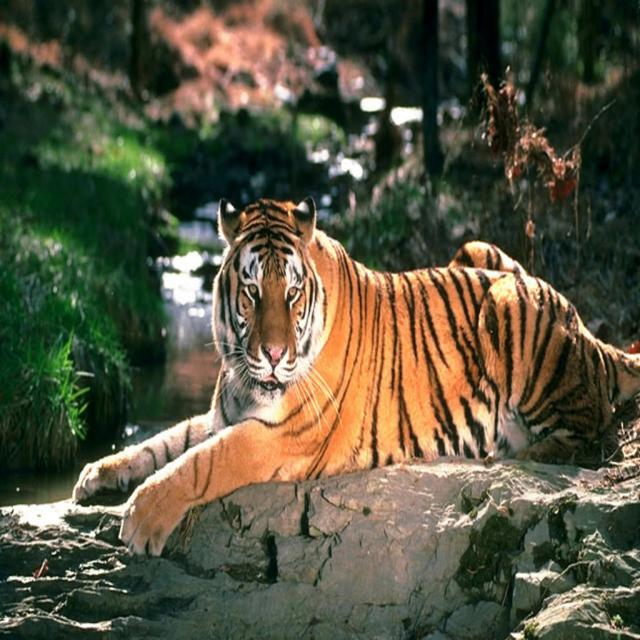Tiger: (72, 198, 640, 550)
